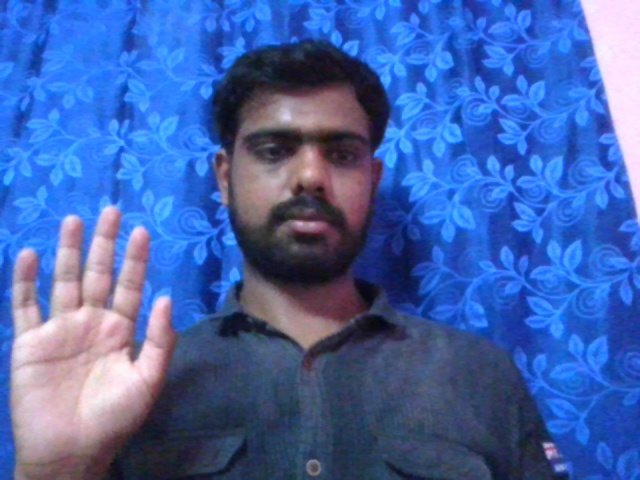Hello: (6, 201, 176, 459)
